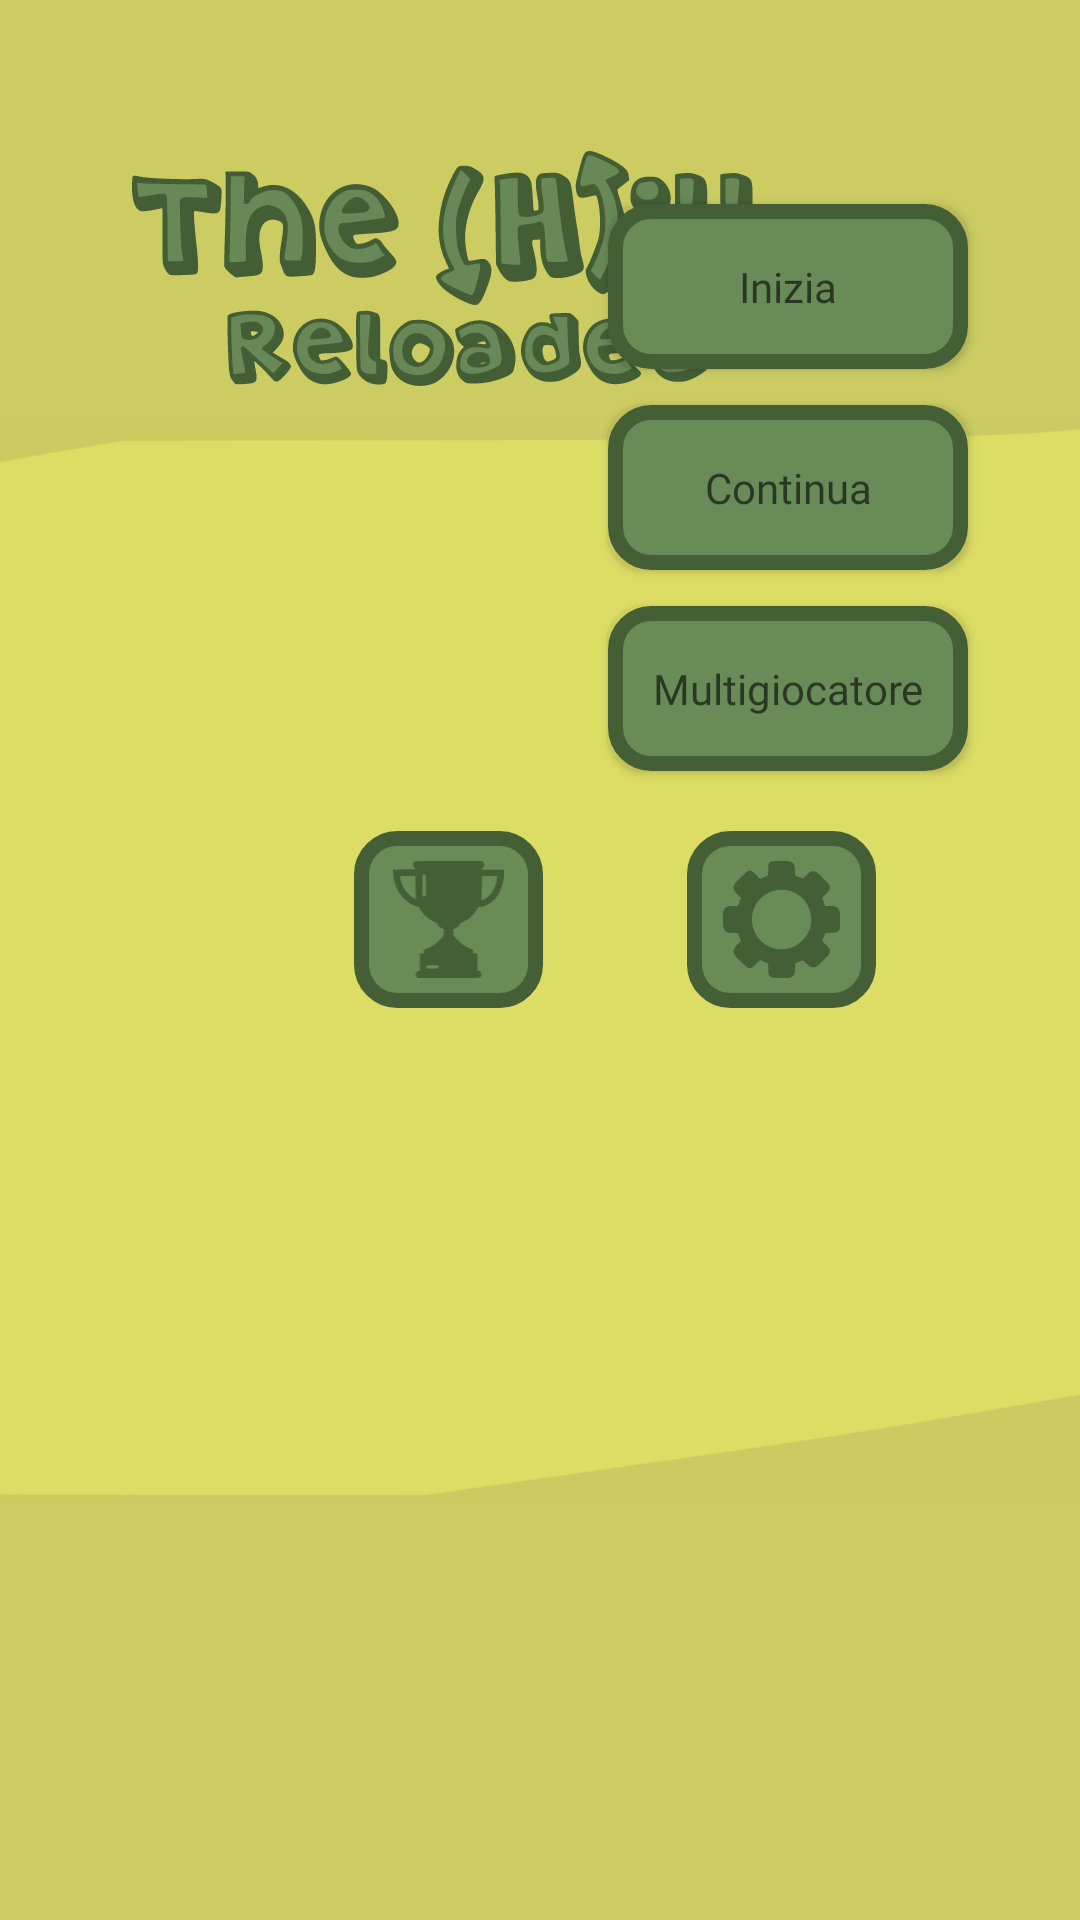

Where icons sit on this 1080 x 1920 app screen, as rect(x1, y1, x2, y2):
Impostazioni: rect(687, 831, 876, 1008)
Punteggi: rect(354, 831, 543, 1008)
